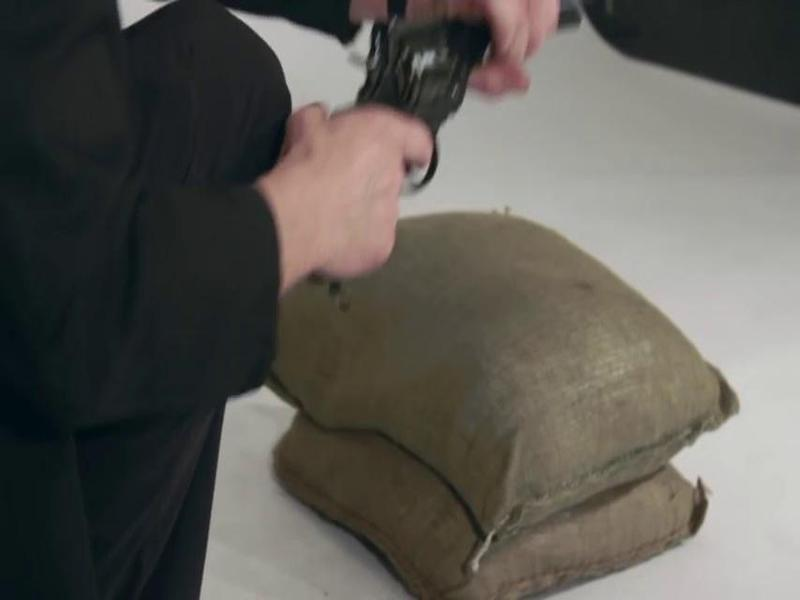Revolver: (304, 1, 618, 242)
